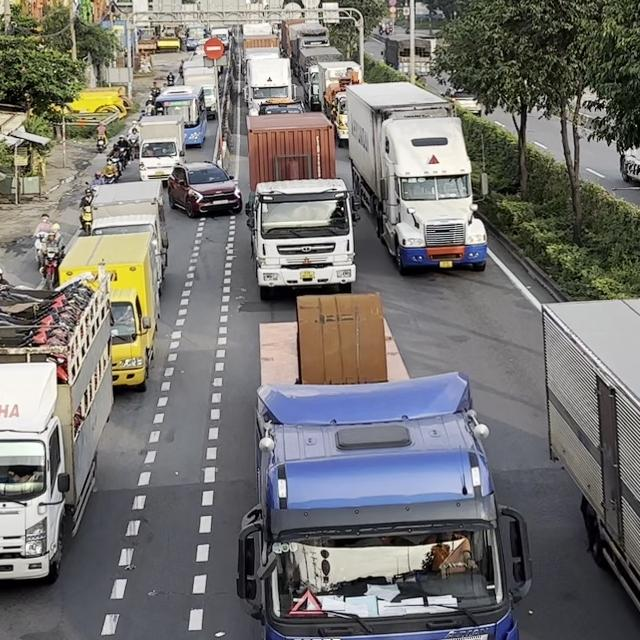bus: (153, 85, 207, 148)
car: (167, 160, 242, 218)
motorcycle: (40, 245, 65, 288), (79, 205, 93, 235)
truck: (221, 296, 532, 639), (0, 265, 115, 585), (540, 295, 639, 635), (346, 80, 488, 273), (240, 110, 358, 298), (56, 229, 163, 390), (88, 179, 169, 285), (242, 55, 306, 115), (137, 114, 186, 181)
